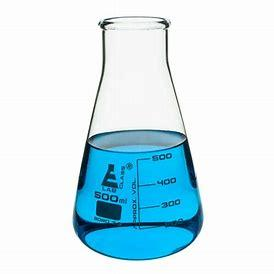Titrarion: (63, 13, 209, 262)
